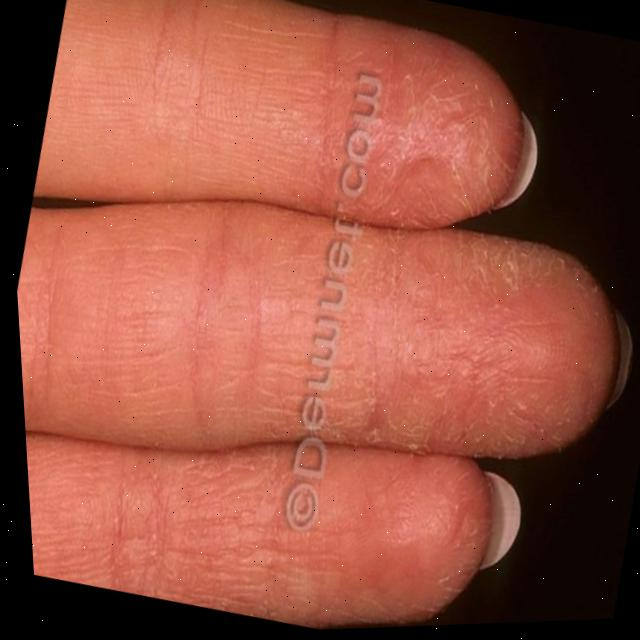Eczema: (84, 49, 572, 637)
